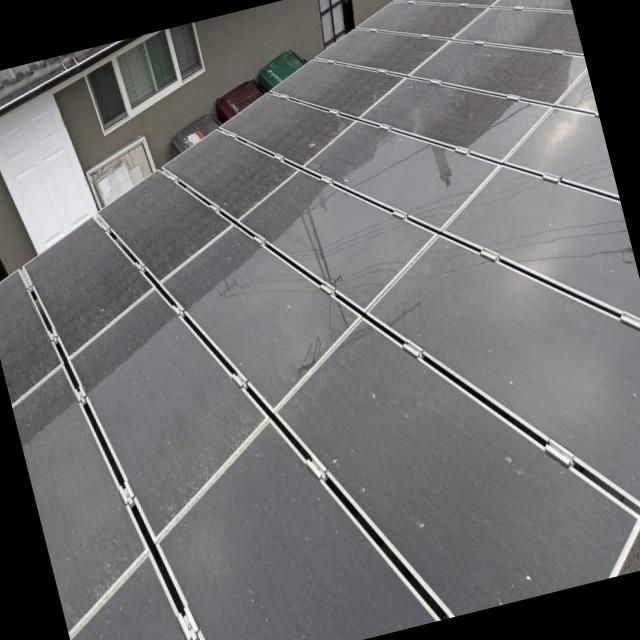faulty: (0, 0, 640, 640), (273, 316, 639, 612), (167, 224, 353, 415)
